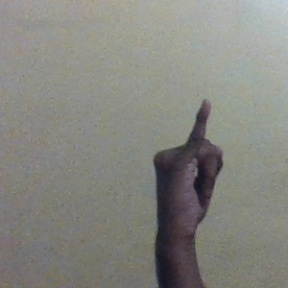I: (149, 98, 226, 235)
